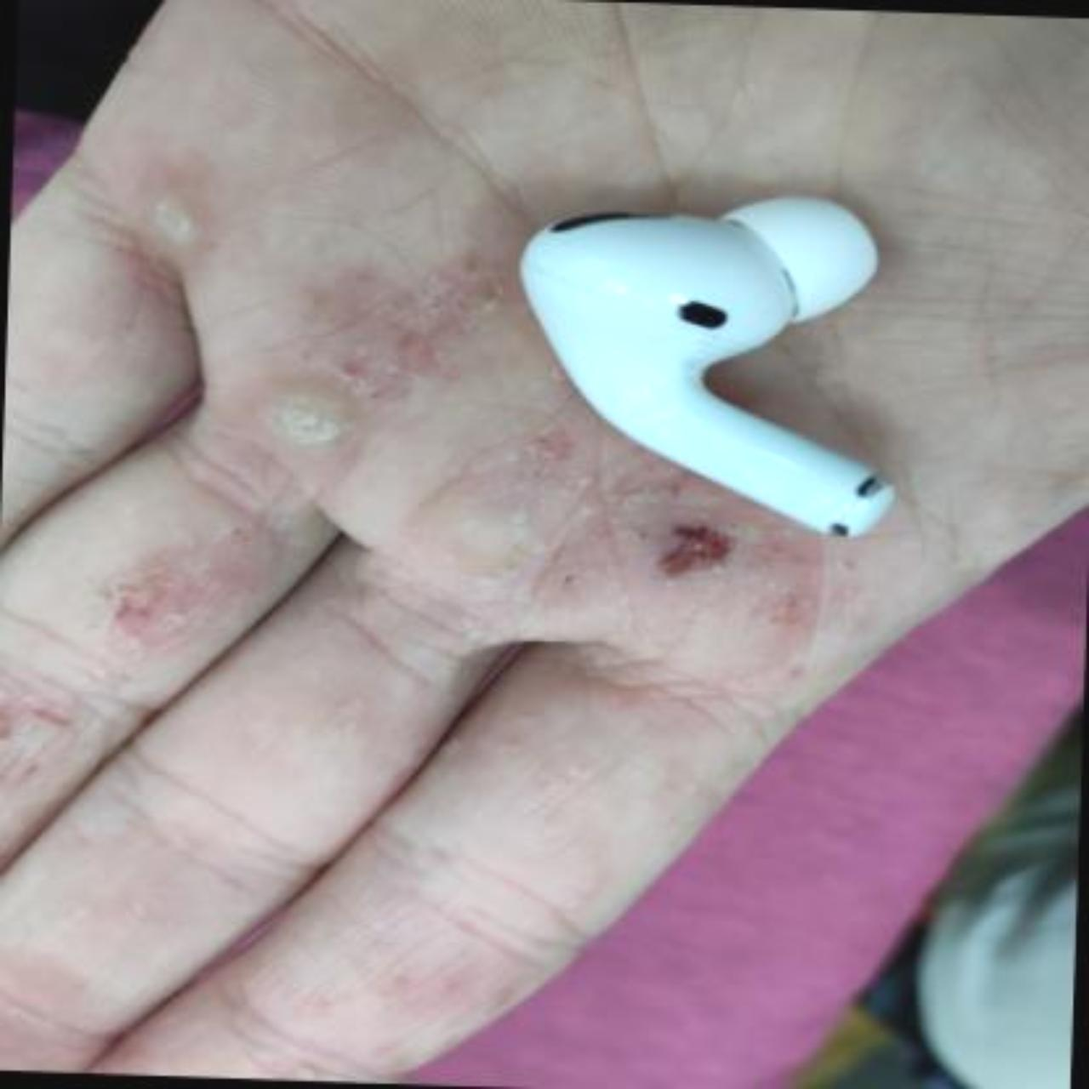Airpods_Units: (500, 160, 924, 536)
